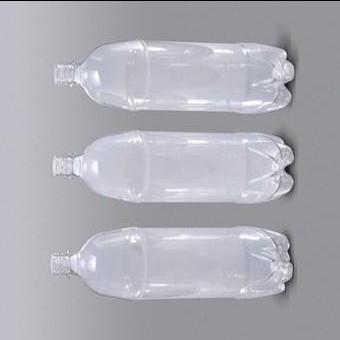bottle: (54, 224, 292, 300), (54, 133, 292, 202), (50, 43, 290, 111)
